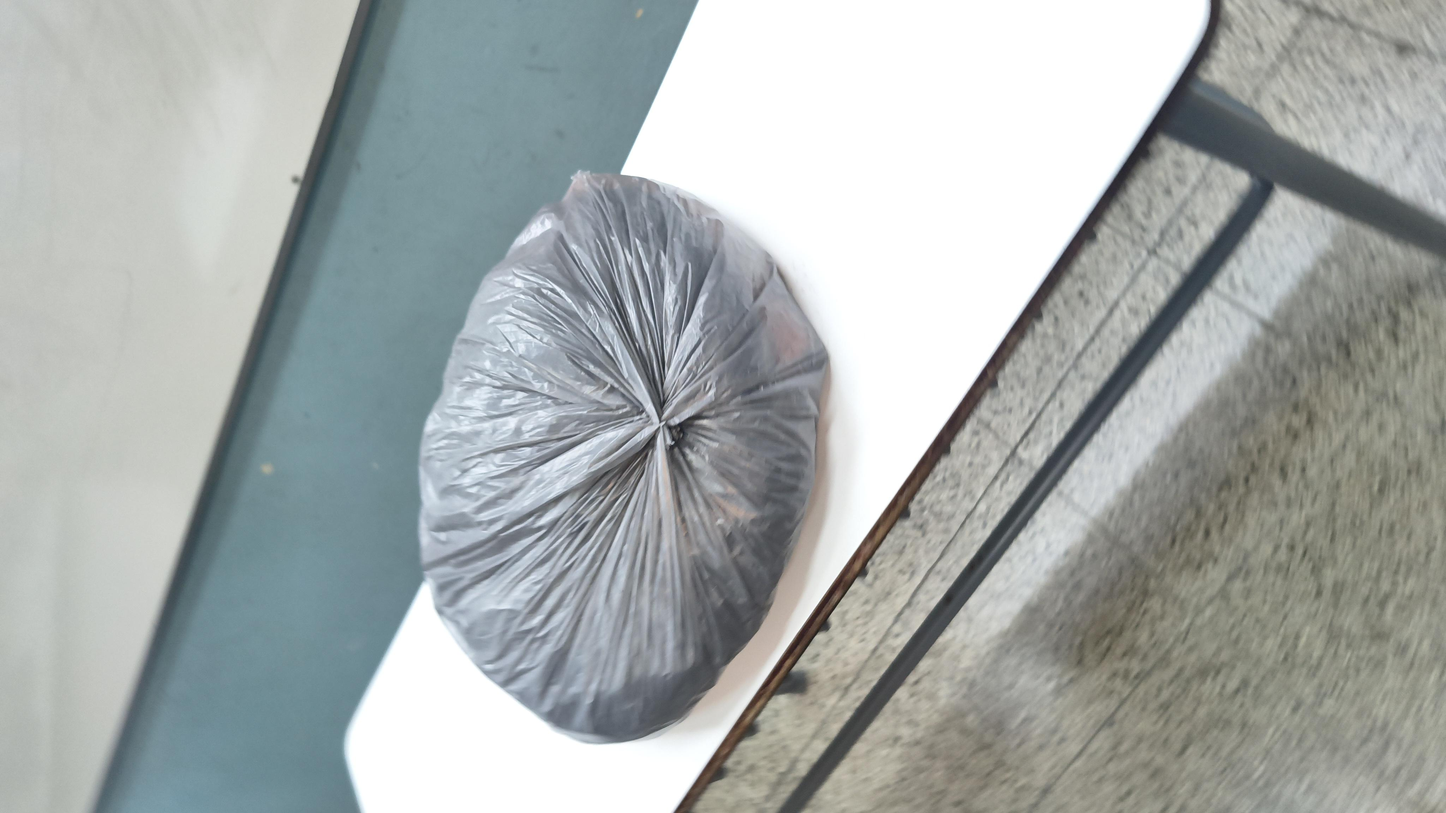Garbage: (82, 187, 1236, 510)
